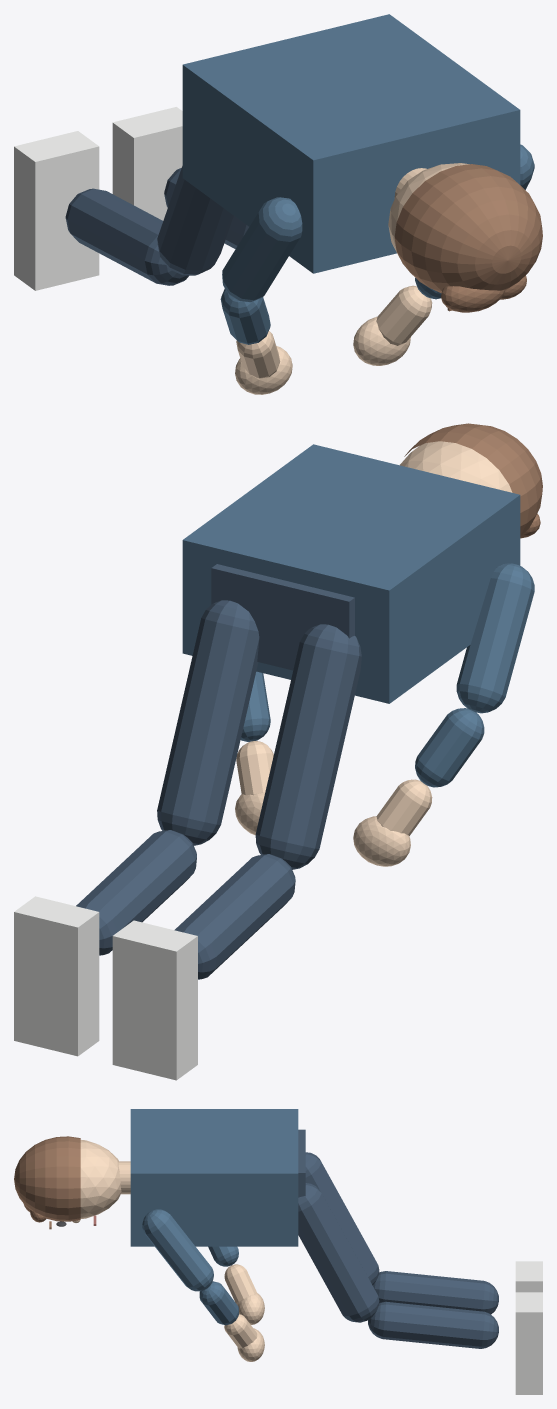
The model's file is CHAR_MALE_001_POSE_TYPING_001.glb.
3 views of the same model, one above another, from view 1: azimuth 30°, elevation 25°; view 2: azimuth 150°, elevation 25°; view 3: azimuth 270°, elevation 25° (orthographic). The views are drawn at different scales.
Parts seen in each view (by area): view 1: CHAR_MALE_001_torso_jacket, CHAR_MALE_001_hair_cap, CHAR_MALE_001_shoe_L, CHAR_MALE_001_shoe_R, CHAR_MALE_001_shin_L, CHAR_MALE_001_upper_arm_L, CHAR_MALE_001_thigh_L, CHAR_MALE_001_wrist_R, CHAR_MALE_001_forearm_L, CHAR_MALE_001_hand_R, CHAR_MALE_001_wrist_L, CHAR_MALE_001_hand_L (+4 smaller); view 2: CHAR_MALE_001_torso_jacket, CHAR_MALE_001_thigh_L, CHAR_MALE_001_thigh_R, CHAR_MALE_001_shoe_R, CHAR_MALE_001_shoe_L, CHAR_MALE_001_pelvis, CHAR_MALE_001_shin_L, CHAR_MALE_001_upper_arm_L, CHAR_MALE_001_shin_R, CHAR_MALE_001_hair_cap, CHAR_MALE_001_forearm_L, CHAR_MALE_001_head (+5 smaller); view 3: CHAR_MALE_001_torso_jacket, CHAR_MALE_001_thigh_R, CHAR_MALE_001_hair_cap, CHAR_MALE_001_shin_R, CHAR_MALE_001_shin_L, CHAR_MALE_001_upper_arm_R, CHAR_MALE_001_shoe_R, CHAR_MALE_001_head, CHAR_MALE_001_thigh_L, CHAR_MALE_001_forearm_R, CHAR_MALE_001_shoe_L, CHAR_MALE_001_wrist_L (+6 smaller).
Part boxes in pixels (<box>): CHAR_MALE_001_torso_jacket: <box>182,14,520,273</box>; CHAR_MALE_001_hair_cap: <box>394,164,542,293</box>; CHAR_MALE_001_shoe_L: <box>14,131,99,290</box>; CHAR_MALE_001_shoe_R: <box>112,107,182,220</box>; CHAR_MALE_001_shin_L: <box>65,188,188,285</box>; CHAR_MALE_001_upper_arm_L: <box>222,197,302,302</box>; CHAR_MALE_001_thigh_L: <box>157,166,233,275</box>; CHAR_MALE_001_wrist_R: <box>376,285,432,345</box>; CHAR_MALE_001_forearm_L: <box>220,288,270,344</box>; CHAR_MALE_001_hand_R: <box>353,316,410,365</box>; CHAR_MALE_001_wrist_L: <box>236,331,280,378</box>; CHAR_MALE_001_hand_L: <box>235,346,292,394</box>; CHAR_MALE_001_torso_jacket: <box>182,444,520,703</box>; CHAR_MALE_001_thigh_L: <box>255,624,361,869</box>; CHAR_MALE_001_thigh_R: <box>157,600,259,845</box>; CHAR_MALE_001_shoe_R: <box>14,896,99,1056</box>; CHAR_MALE_001_shoe_L: <box>112,920,197,1080</box>; CHAR_MALE_001_pelvis: <box>211,564,354,670</box>; CHAR_MALE_001_shin_L: <box>174,854,295,979</box>; CHAR_MALE_001_upper_arm_L: <box>456,563,534,713</box>; CHAR_MALE_001_shin_R: <box>76,830,196,955</box>; CHAR_MALE_001_hair_cap: <box>404,423,542,536</box>; CHAR_MALE_001_forearm_L: <box>415,708,484,787</box>; CHAR_MALE_001_head: <box>400,441,512,492</box>; CHAR_MALE_001_torso_jacket: <box>130,1109,298,1246</box>; CHAR_MALE_001_thigh_R: <box>298,1183,379,1322</box>; CHAR_MALE_001_hair_cap: <box>14,1136,80,1221</box>; CHAR_MALE_001_shin_R: <box>368,1301,498,1348</box>; CHAR_MALE_001_shin_L: <box>373,1271,498,1314</box>; CHAR_MALE_001_upper_arm_R: <box>142,1209,213,1291</box>; CHAR_MALE_001_shoe_R: <box>515,1292,542,1394</box>; CHAR_MALE_001_head: <box>80,1140,121,1218</box>; CHAR_MALE_001_thigh_L: <box>305,1152,379,1285</box>; CHAR_MALE_001_forearm_R: <box>199,1281,238,1325</box>; CHAR_MALE_001_shoe_L: <box>515,1261,542,1292</box>; CHAR_MALE_001_wrist_L: <box>224,1264,257,1305</box>.
Bounding box in the file's own units: 0.5723 × 0.6983 × 1.47.
